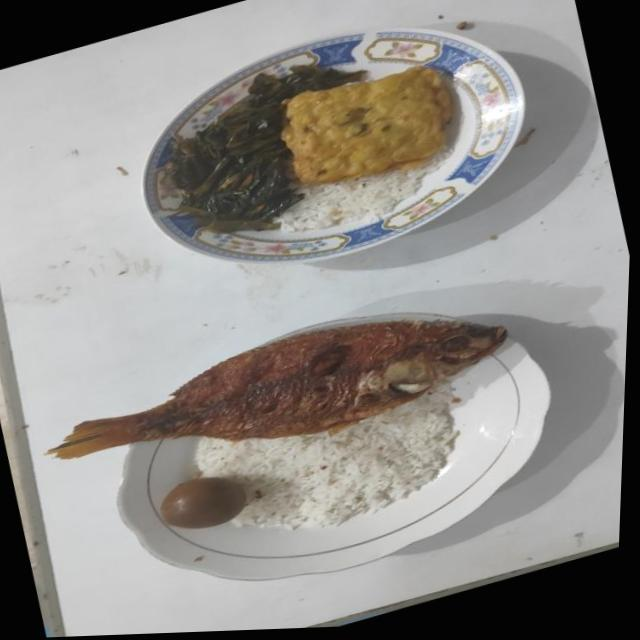ikan_mujair: (47, 320, 506, 458)
nasi_putih: (196, 382, 460, 528), (278, 146, 453, 232)
tumis_kangkung: (164, 63, 366, 232)
